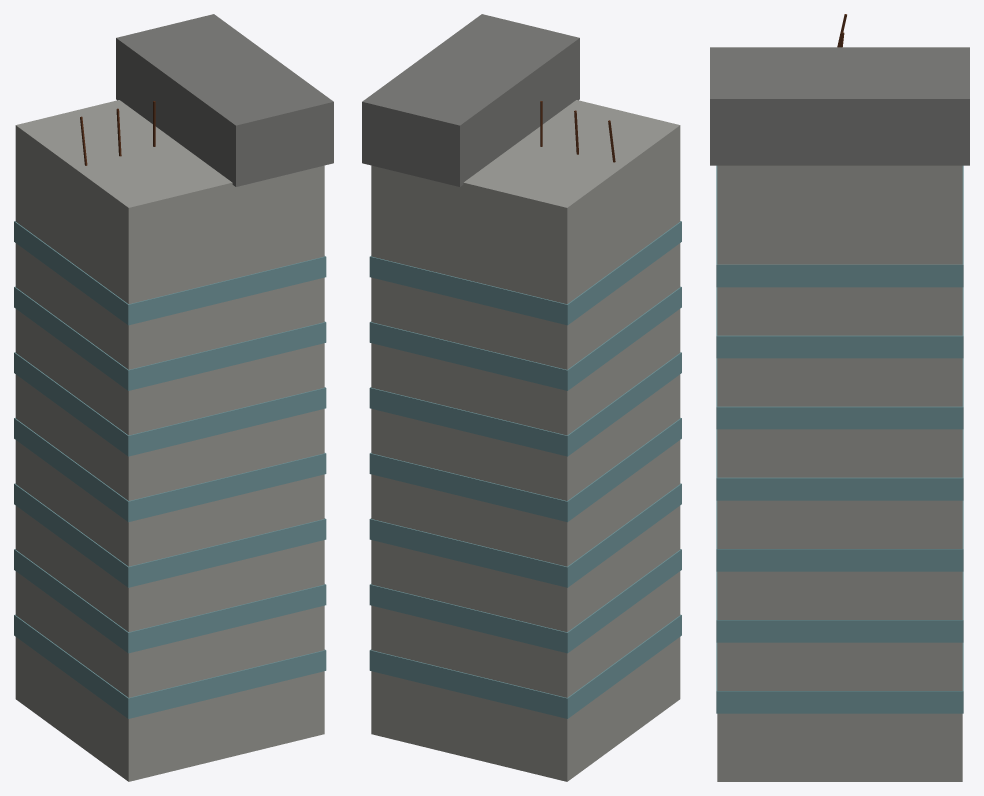
The model's file is ruined_tower.glb.
The picture shows the model from 3 angles, left to right: view 1: azimuth 30°, elevation 25°; view 2: azimuth 150°, elevation 25°; view 3: azimuth 270°, elevation 25°; orthographic projection. The views are drawn at different scales.
Visible parts, largest first — view 1: ruined_tower; view 2: ruined_tower; view 3: ruined_tower.
Part boxes in pixels (box(x1,y1,x2,y2)): ruined_tower: box(14, 14, 333, 781); ruined_tower: box(362, 14, 681, 781); ruined_tower: box(710, 14, 969, 781).
Bounding box in the file's own units: 5.18 × 15.45 × 5.3.
